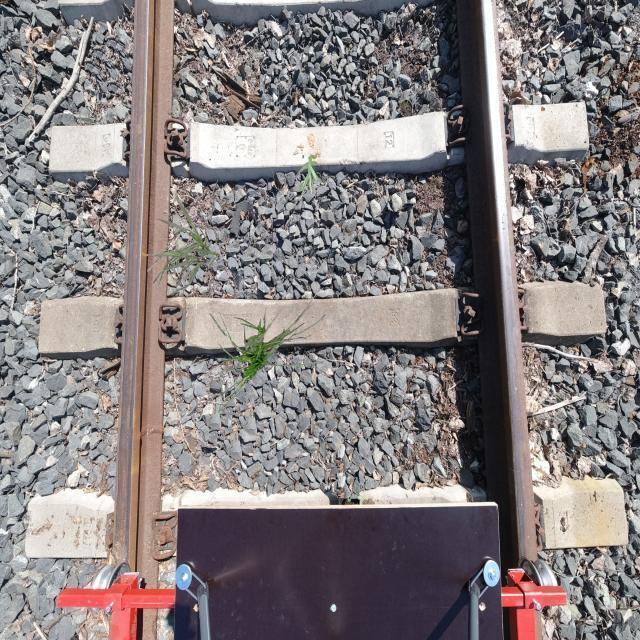Plant: (207, 291, 326, 414), (147, 196, 220, 290), (296, 155, 322, 197)
